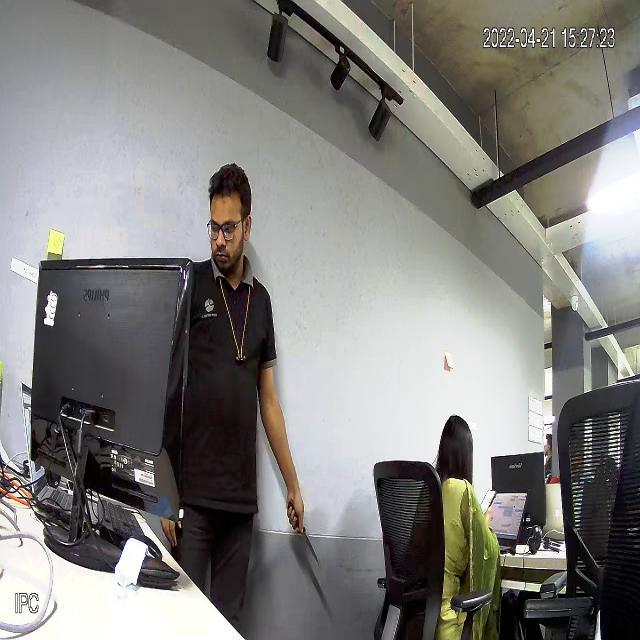Knife: (286, 497, 326, 574)
